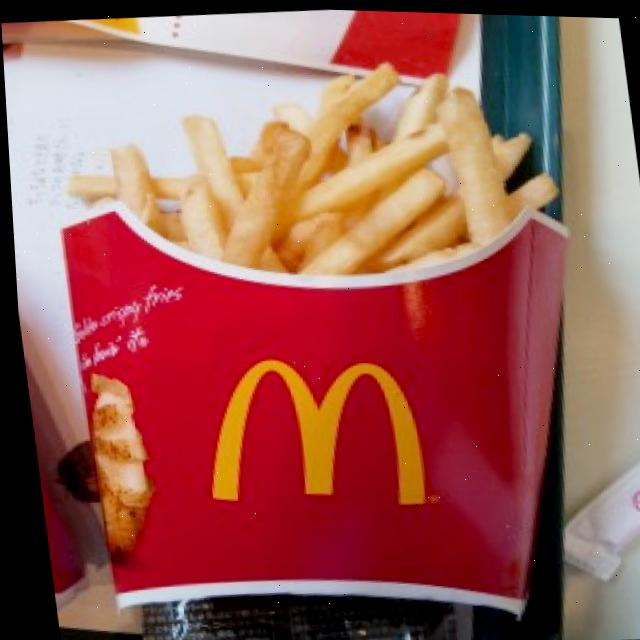炸货点心: (31, 44, 591, 640)
